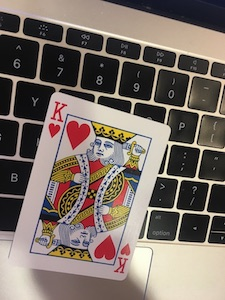KingOfHearts: (4, 89, 173, 283)
